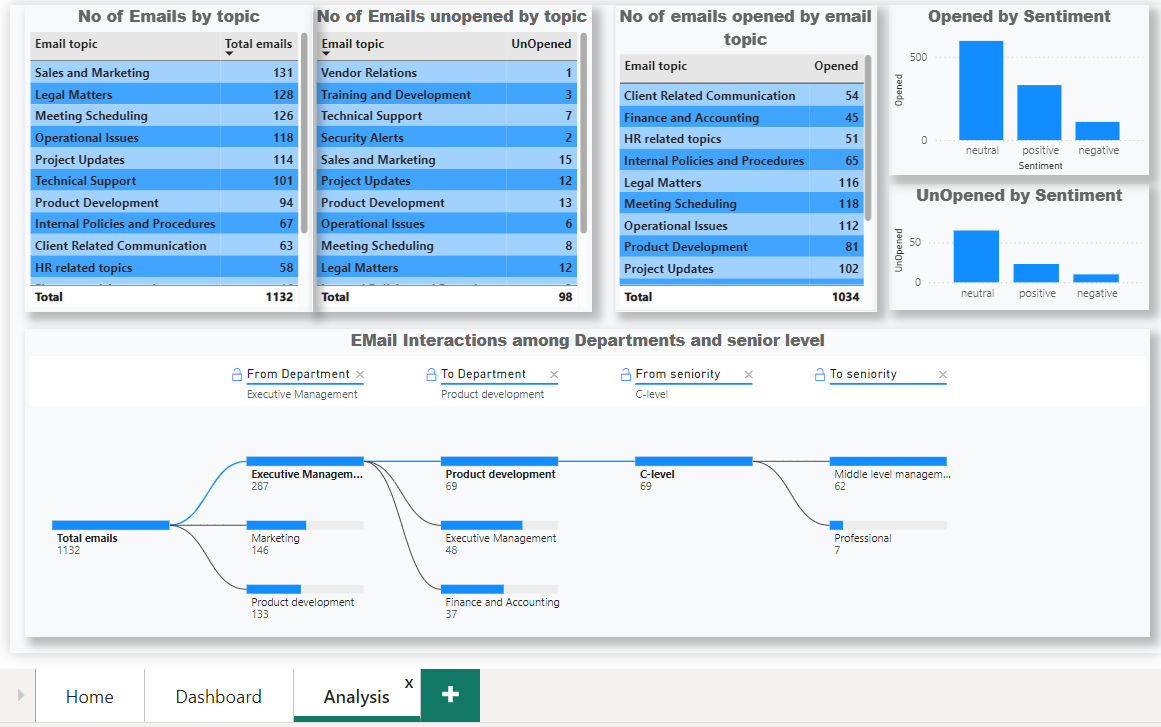

What the dashboard file says about the page in this screenshot:
{"tool":"powerbi","page":{"name":"Analysis","canvas":[1280,720],"ordinal":2},"visuals":[{"type":"decompositionTreeVisual","title":"EMail Interactions among Departments and senior level ","fields":{"ExplainBy":["emails- fact table.From Department","emails- fact table.To Department","emails- fact table.From seniority","emails- fact table.To seniority"],"Analyze":["Measure.Total emails"]},"box":[15.9,359.5,1250.2,342],"z":0},{"type":"tableEx","title":"No of Emails unopened by topic","fields":{"Values":["emails- fact table.Email topic","Measure.UnOpened"]},"box":[335.6,0,311.8,340.4],"z":1000},{"type":"tableEx","title":"No of Emails by topic","fields":{"Values":["emails- fact table.Email topic","Measure.Total emails"]},"box":[15.9,0,319.7,340.4],"z":2000},{"type":"tableEx","title":"No of emails opened by email topic","fields":{"Values":["emails- fact table.Email topic","Measure.Opened"]},"box":[671.2,0,291.1,340.4],"z":3000},{"type":"columnChart","fields":{"Category":["emails- fact table.Sentiment"],"Y":["Measure.Opened"]},"box":[976.6,0,289.5,189.3],"z":4000},{"type":"columnChart","fields":{"Category":["emails- fact table.Sentiment"],"Y":["Measure.UnOpened"]},"box":[976.6,198.8,289.5,140],"z":5000}]}

Visuals, with their boxes on the page's 1280x720 design canvas (x1, y1, x2, y2). These are canvas units, not pixel positions in the 1161x727 screenshot, which may show the page scaled, cropped or inside an application window:
"EMail Interactions among Departments and senior level " decompositionTreeVisual: [16,360,1266,702]
"No of Emails unopened by topic" tableEx: [336,0,647,340]
"No of Emails by topic" tableEx: [16,0,336,340]
"No of emails opened by email topic" tableEx: [671,0,962,340]
columnChart - emails- fact table.Sentiment x Measure.Opened: [977,0,1266,189]
columnChart - emails- fact table.Sentiment x Measure.UnOpened: [977,199,1266,339]
